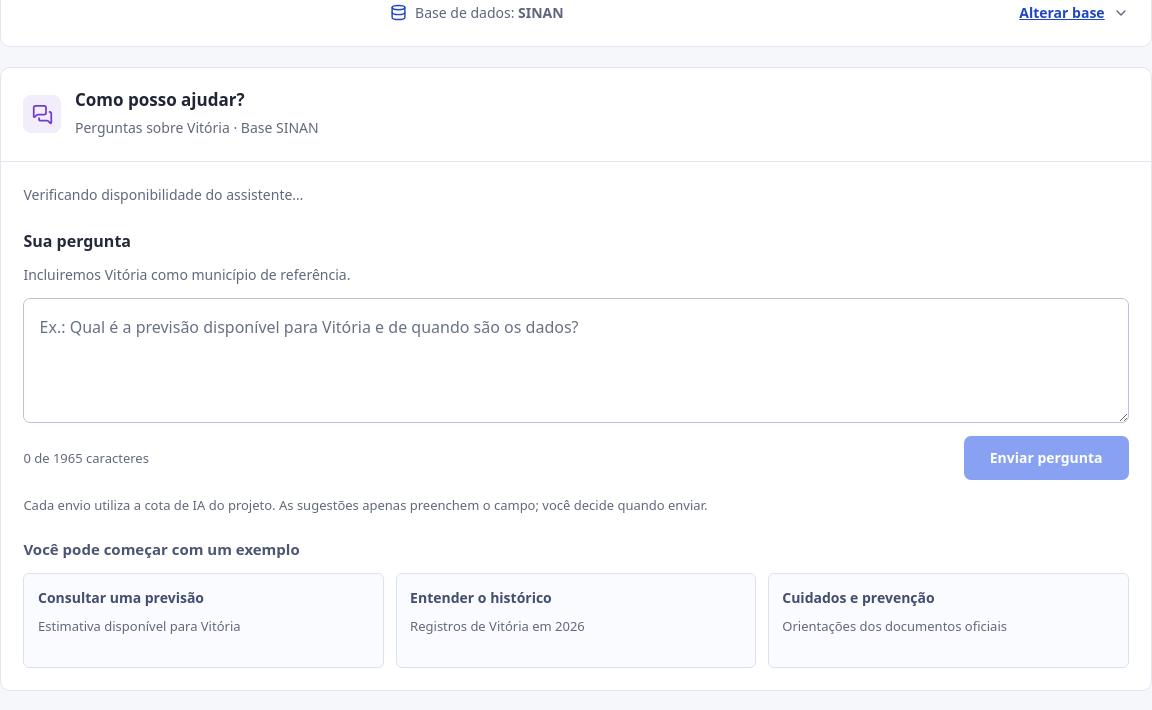
Test case: conversa do assistente, sem chamadas externas › inicia uma nova conversa ao trocar o município sem reutilizar o histórico anterior
This screenshot has width=1152, height=710.
(page scrolled)
Replace the text in the text box labelled "Sua pergunta" with "Qual é a previsão?" at x=576, y=361, box [23,298,1129,423]
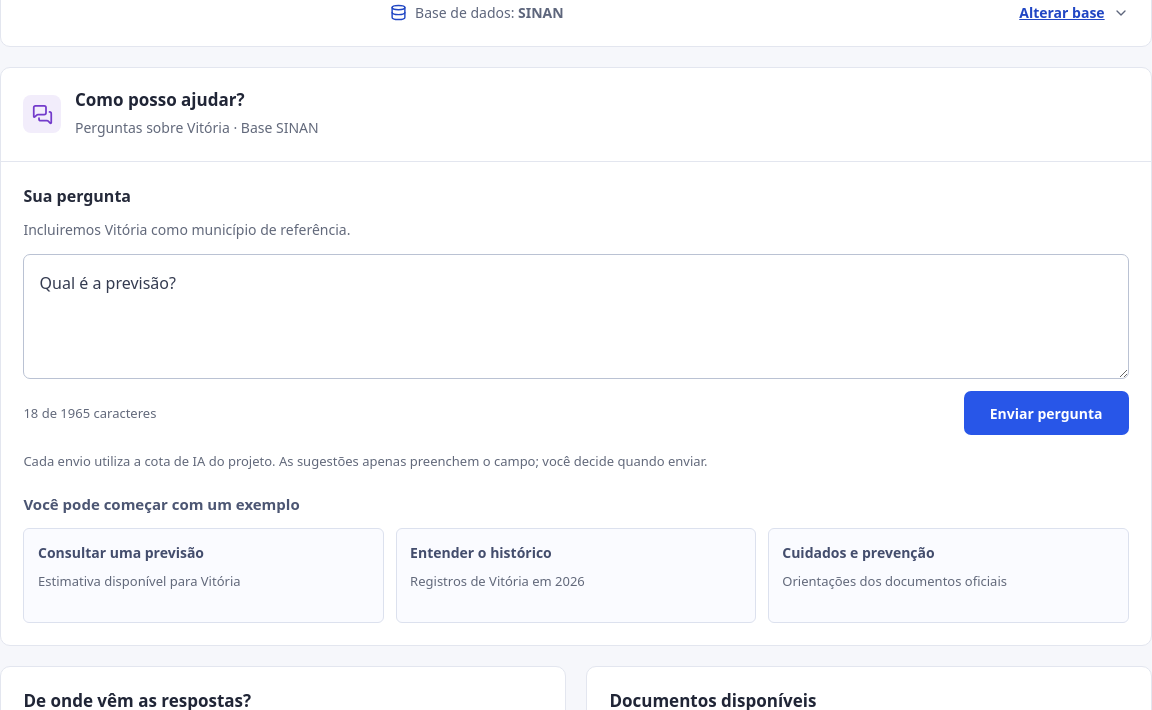
Now the button "Enviar pergunta" is enabled
Click the button "Enviar pergunta".
click(1046, 413)  # box [964,391,1129,435]
(page scrolled)
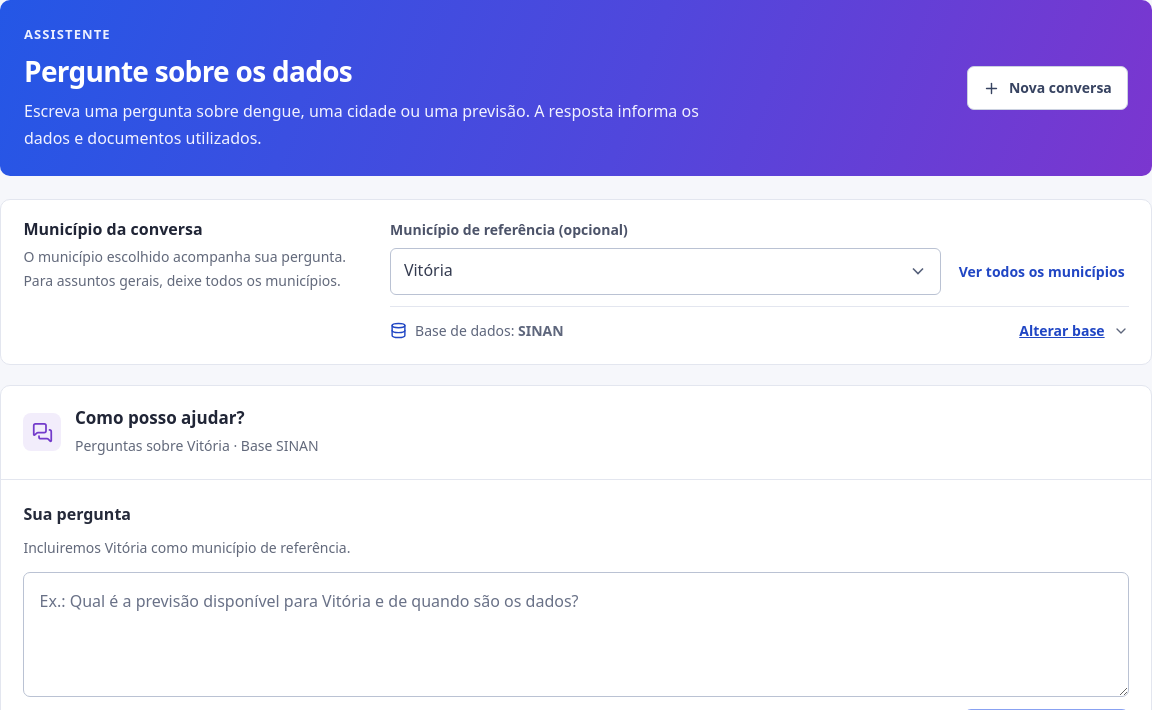
Select "Vila Velha" in the dropdown labelled "Município de referência (opcional)" at x=666, y=271, box [390,248,941,294]
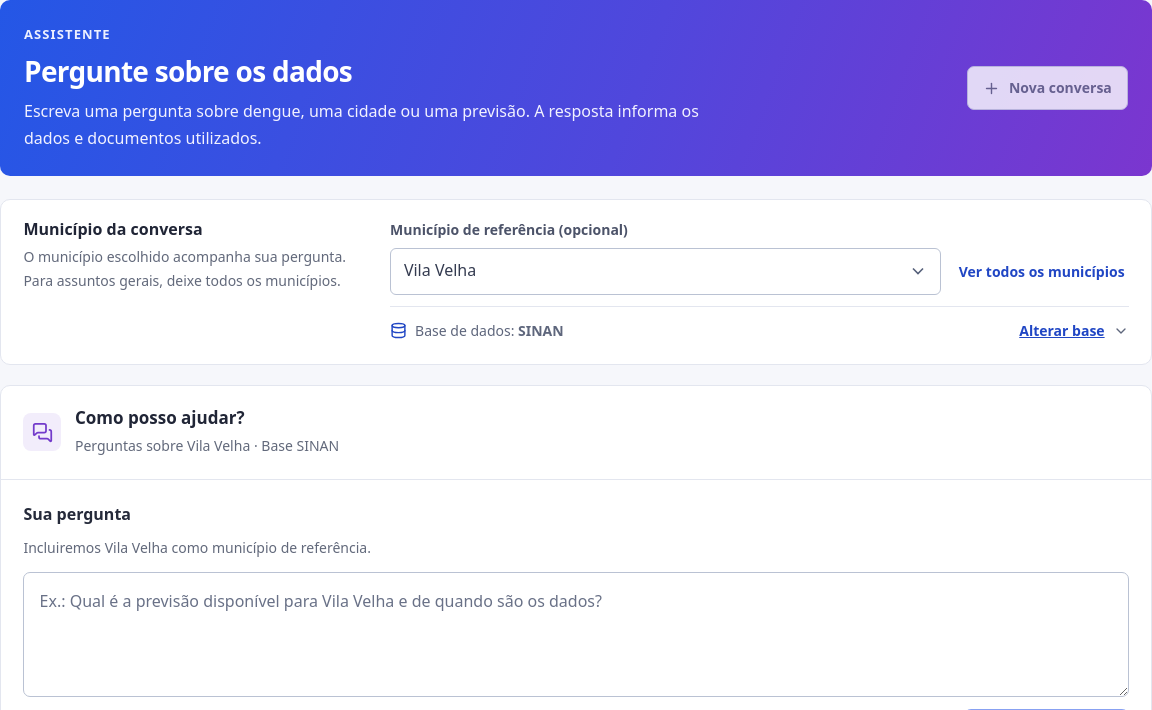
Replace the text in the text box labelled "Sua pergunta" with "Qual é a previsão?" at x=576, y=634, box [23,572,1129,696]
(page scrolled)
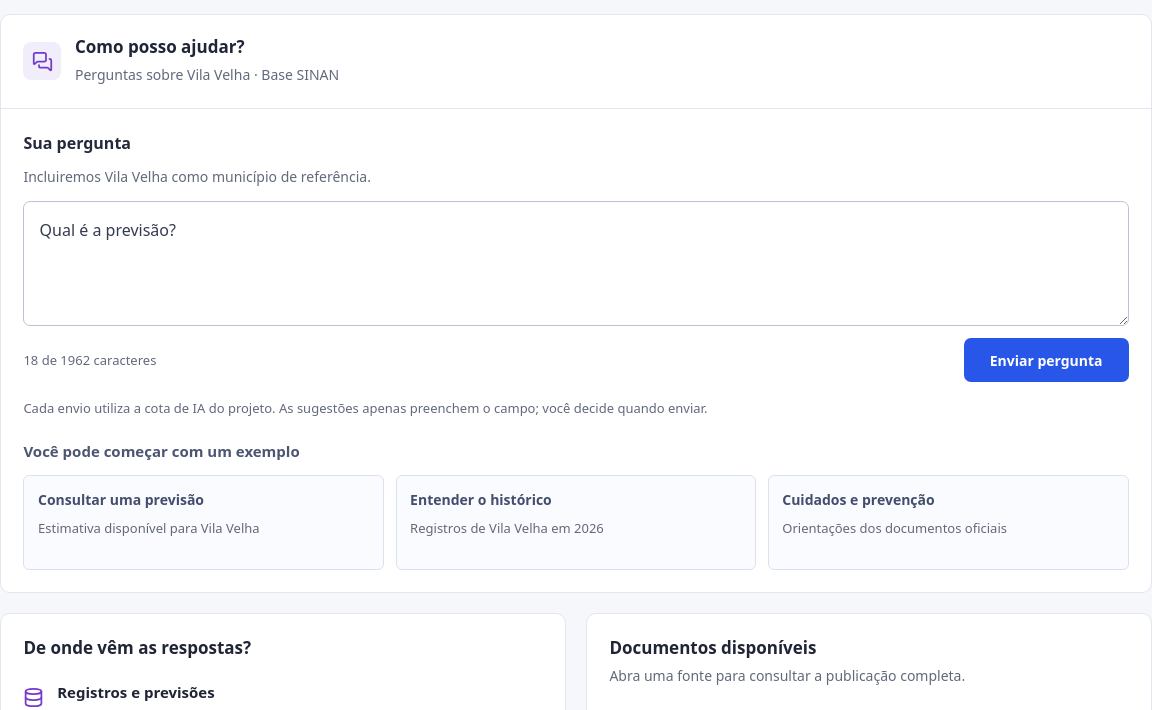
Now the button "Enviar pergunta" is enabled
Click the button "Enviar pergunta".
click(1046, 360)  # box [964,338,1129,382]
(page scrolled)
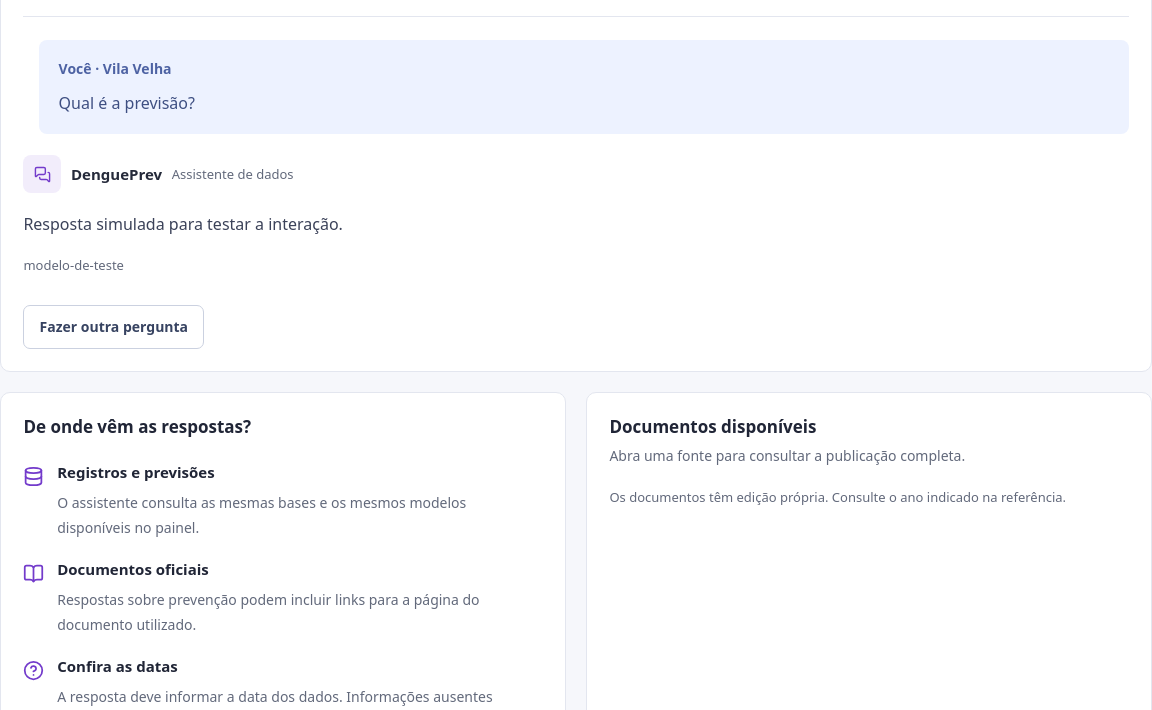
Now the text "Resposta simulada para testar a interação." is shown, box [23,213,343,235]
